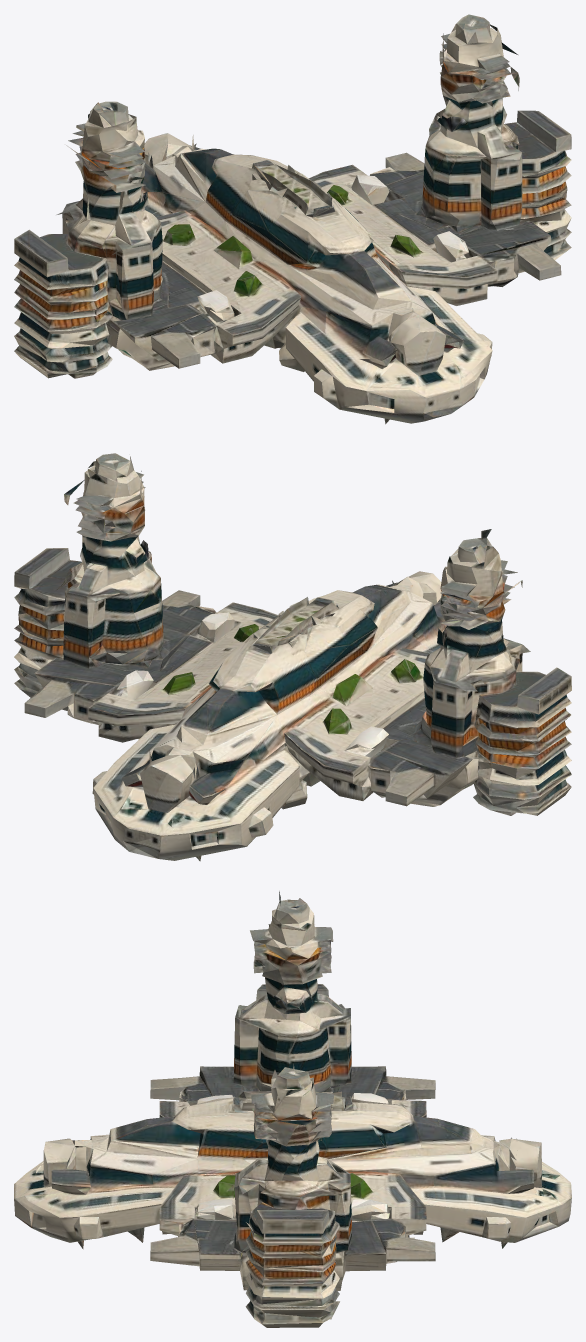
File: nation-m-fortress.glb
The picture shows the model from 3 angles, top to bottom: view 1: azimuth 30°, elevation 25°; view 2: azimuth 150°, elevation 25°; view 3: azimuth 270°, elevation 25°; orthographic projection. The views are drawn at different scales.
Bounding box in the file's own units: 1.9 × 0.9883 × 1.89.
1 material, 1 textured.
